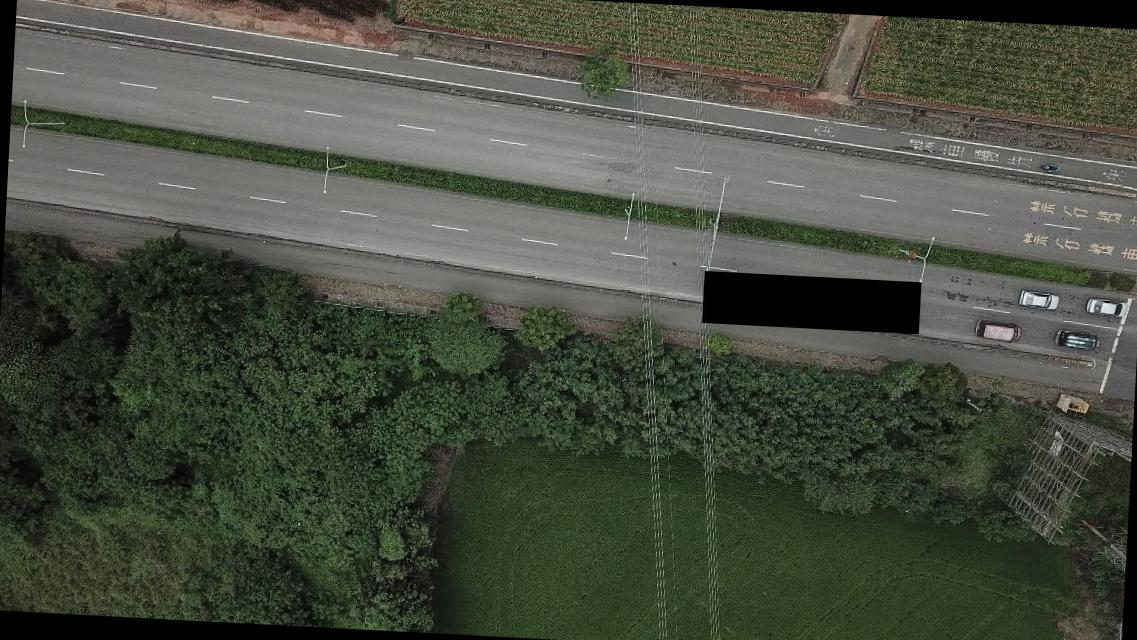vehicle: (972, 317, 1022, 347), (1054, 328, 1100, 354), (1019, 290, 1060, 314), (1085, 298, 1128, 319), (1058, 394, 1094, 416)
